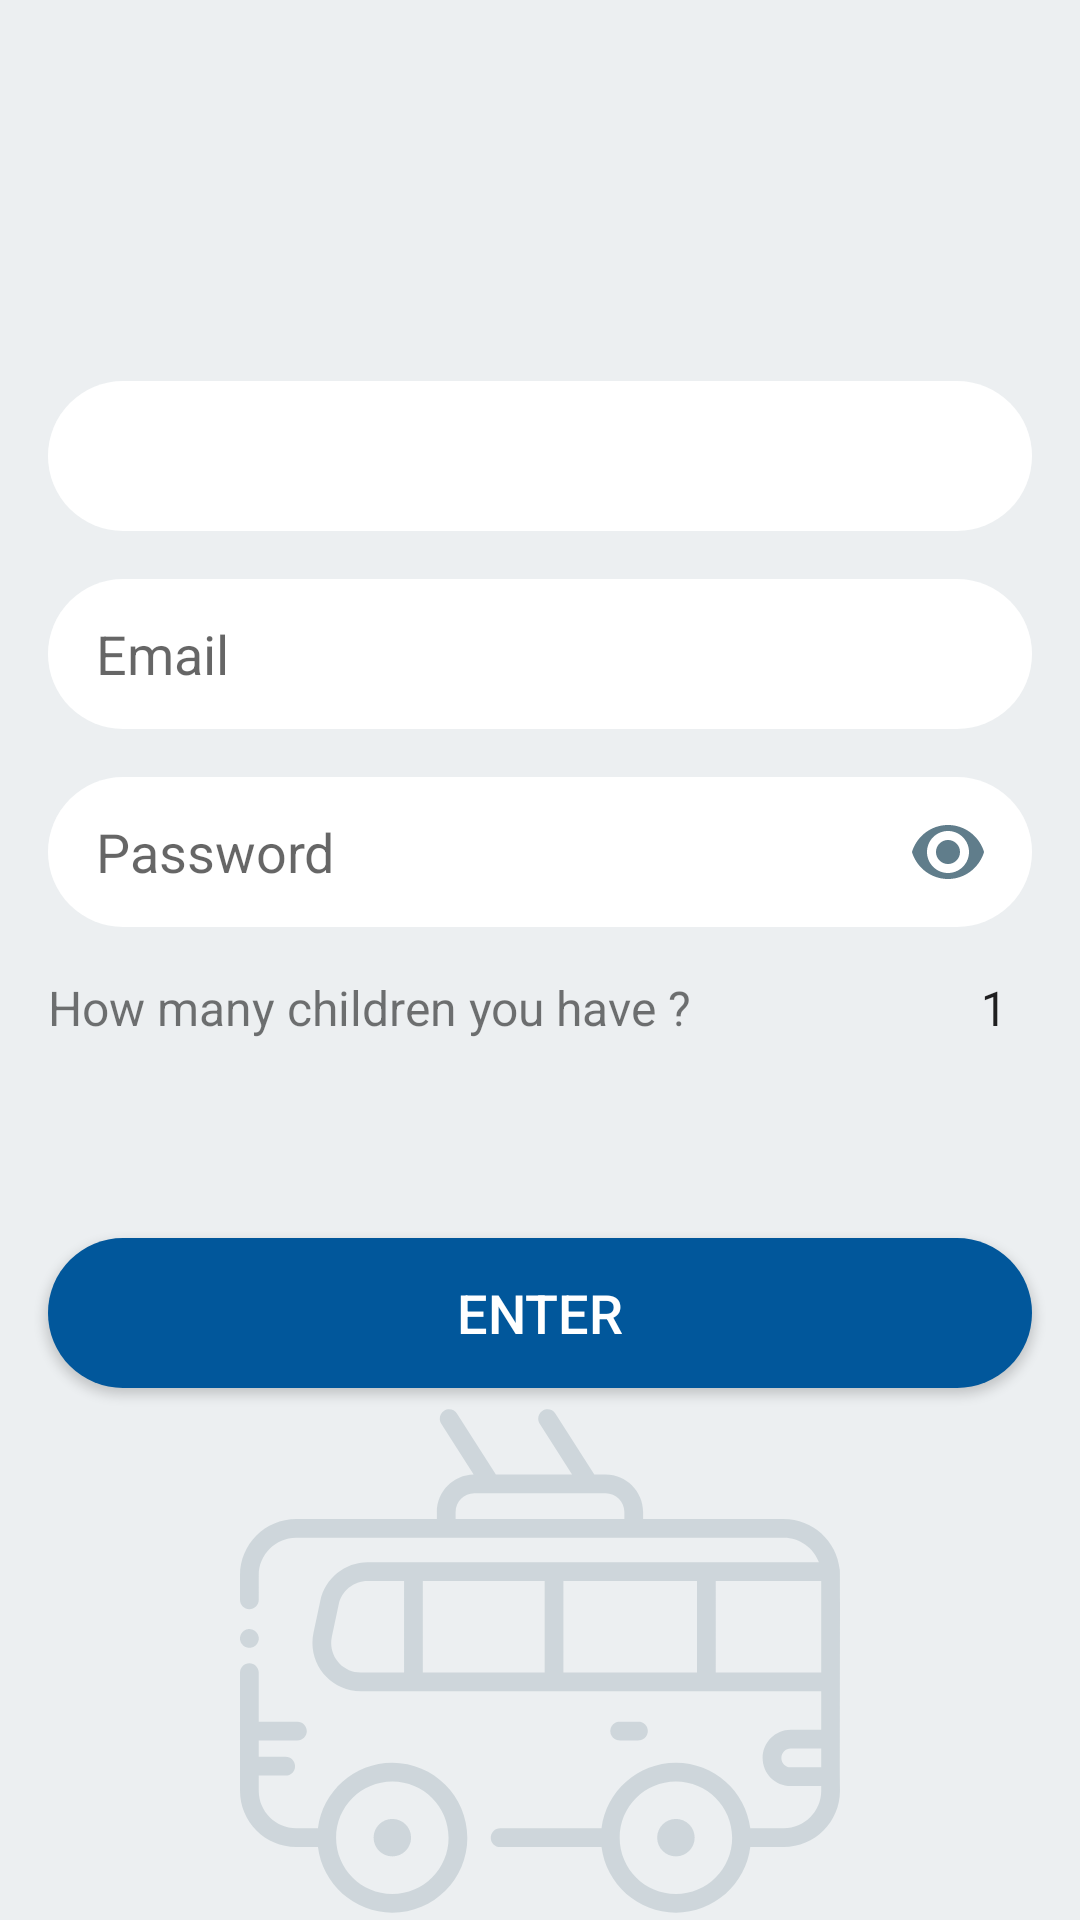

Where to tap for icons on this 1080 x 1920 app screen, as point (x, y):
view: point (948, 852)
